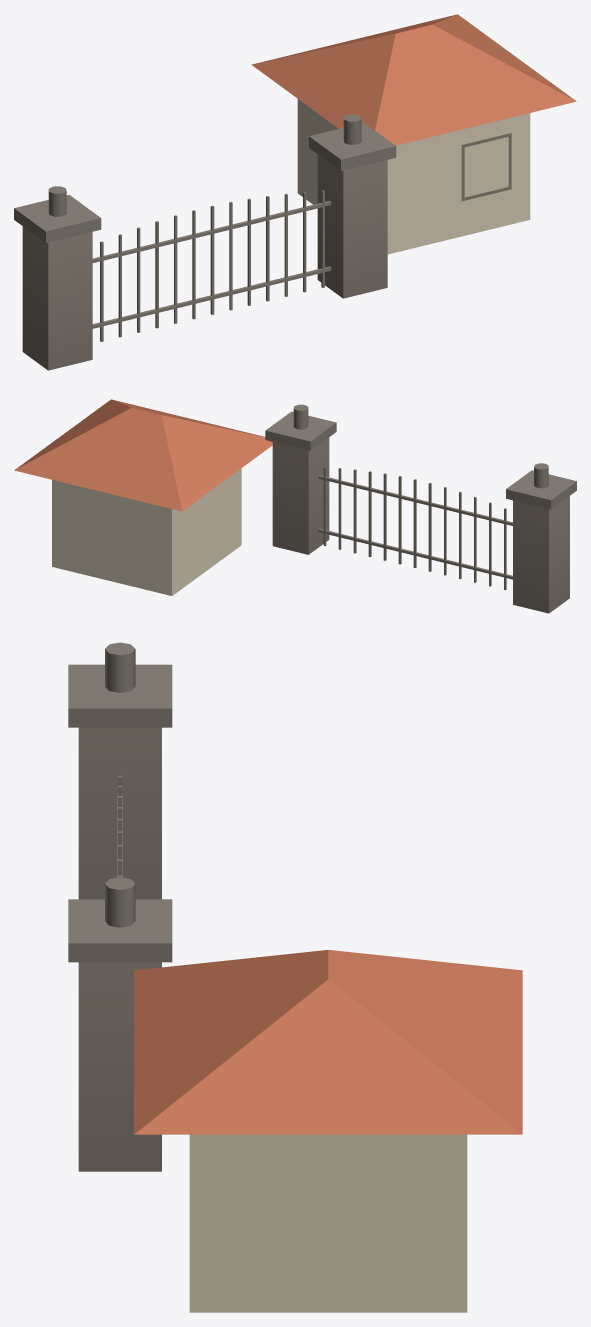
The model's file is estate_gatehouse.glb.
3 views of the same model, one above another, from view 1: azimuth 30°, elevation 25°; view 2: azimuth 150°, elevation 25°; view 3: azimuth 270°, elevation 25° (orthographic). The views are drawn at different scales.
Parts seen in each view (by area): view 1: estate_gatehouse; view 2: estate_gatehouse; view 3: estate_gatehouse.
Part boxes in pixels (left/top/right/bottom): estate_gatehouse: left=14, top=14, right=576, bottom=370; estate_gatehouse: left=14, top=399, right=576, bottom=613; estate_gatehouse: left=68, top=642, right=522, bottom=1312.
Bounding box in the file's own units: 14.95 × 4.6 × 6.55.
